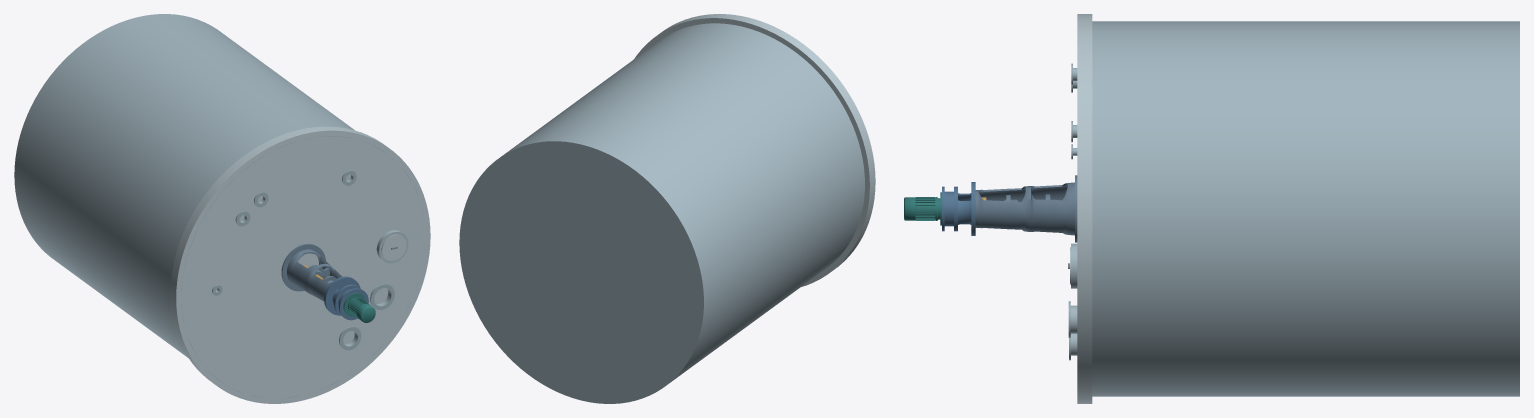
3 views of the same model, side by side, from view 1: azimuth 30°, elevation 25°; view 2: azimuth 150°, elevation 25°; view 3: azimuth 270°, elevation 25° (orthographic). The views are drawn at different scales.
Parts seen in each view (by area): view 1: 本体_筒壳, 槽盖_盖板, 支架_06_Tapered_window_frame_with_bored_seats, 驱动_01_Motor, 接口_人孔盖, 支架_06_Frame_foot, 驱动_02_Base_flange_top; view 2: 本体_筒壳, 本体_平底, 槽盖_盖板; view 3: 本体_筒壳, 槽盖_盖板, 支架_06_Tapered_window_frame_with_bored_seats, 驱动_01_Motor.
Boxes of the visible parts, box(x1,y1,x2,y2) form: 本体_筒壳: box(14, 14, 423, 398); 槽盖_盖板: box(170, 126, 430, 403); 支架_06_Tapered_window_frame_with_bored_seats: box(287, 249, 342, 301); 驱动_01_Motor: box(343, 293, 375, 322); 接口_人孔盖: box(381, 234, 406, 260); 支架_06_Frame_foot: box(281, 244, 325, 291); 驱动_02_Base_flange_top: box(325, 277, 360, 315); 本体_筒壳: box(459, 23, 864, 403); 本体_平底: box(460, 142, 703, 403); 槽盖_盖板: box(634, 14, 875, 286); 本体_筒壳: box(1092, 21, 1519, 396); 槽盖_盖板: box(1077, 14, 1092, 403); 支架_06_Tapered_window_frame_with_bored_seats: box(975, 182, 1074, 235); 驱动_01_Motor: box(904, 192, 941, 225).
Bounding box in the file's own units: 5.2 × 5.2 × 8.21.
